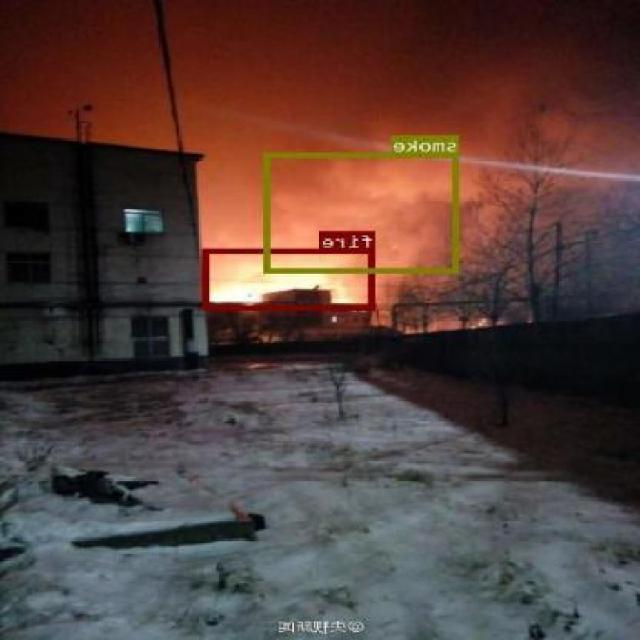Fire: (204, 248, 376, 309)
Smoke: (266, 152, 460, 272)
